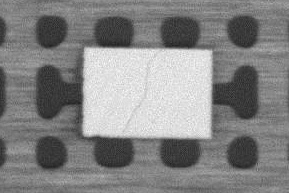DIE_CRACK: (121, 49, 162, 134)
